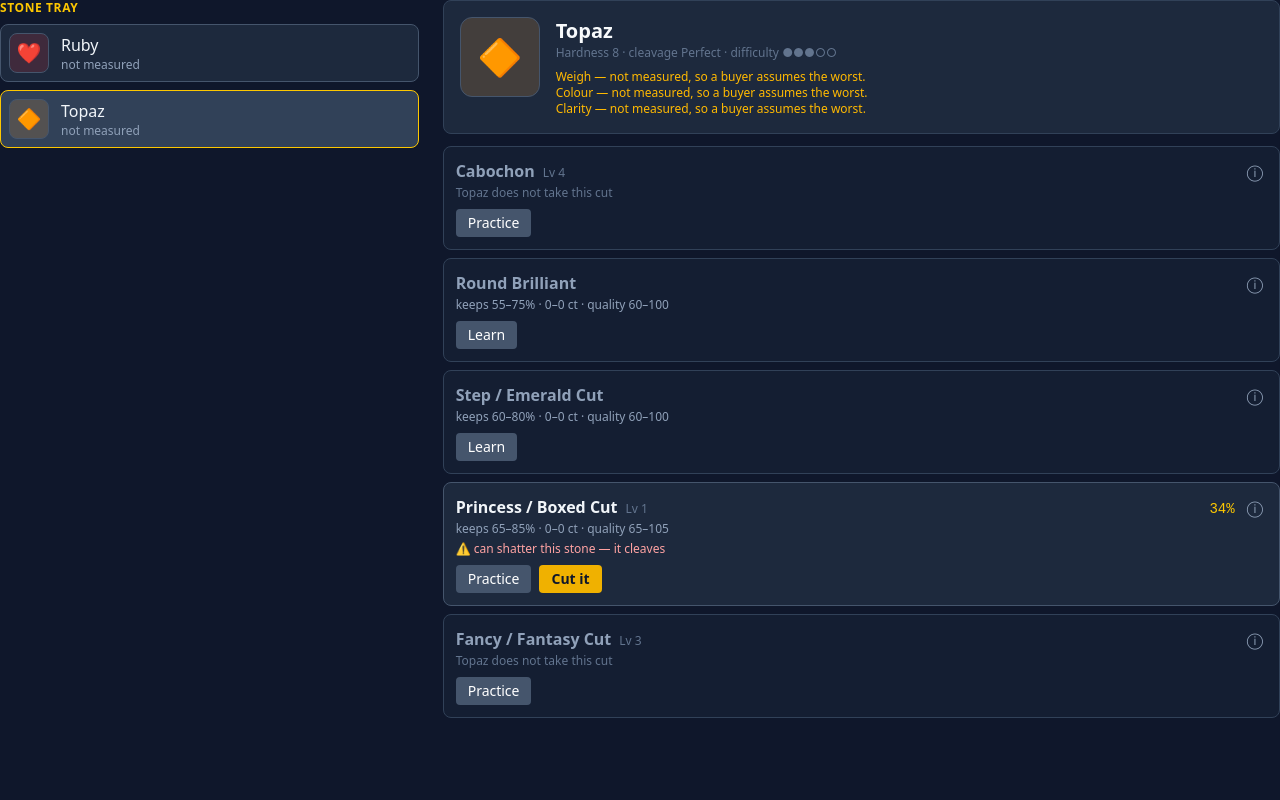
Test: Cut › does not quote odds or shatter risk in the guide for an unsuitable technique
The width and height of the screenshot is (1280, 800).
Click the button named "About Fancy".
click(1255, 639)  # box [1243, 627, 1267, 651]
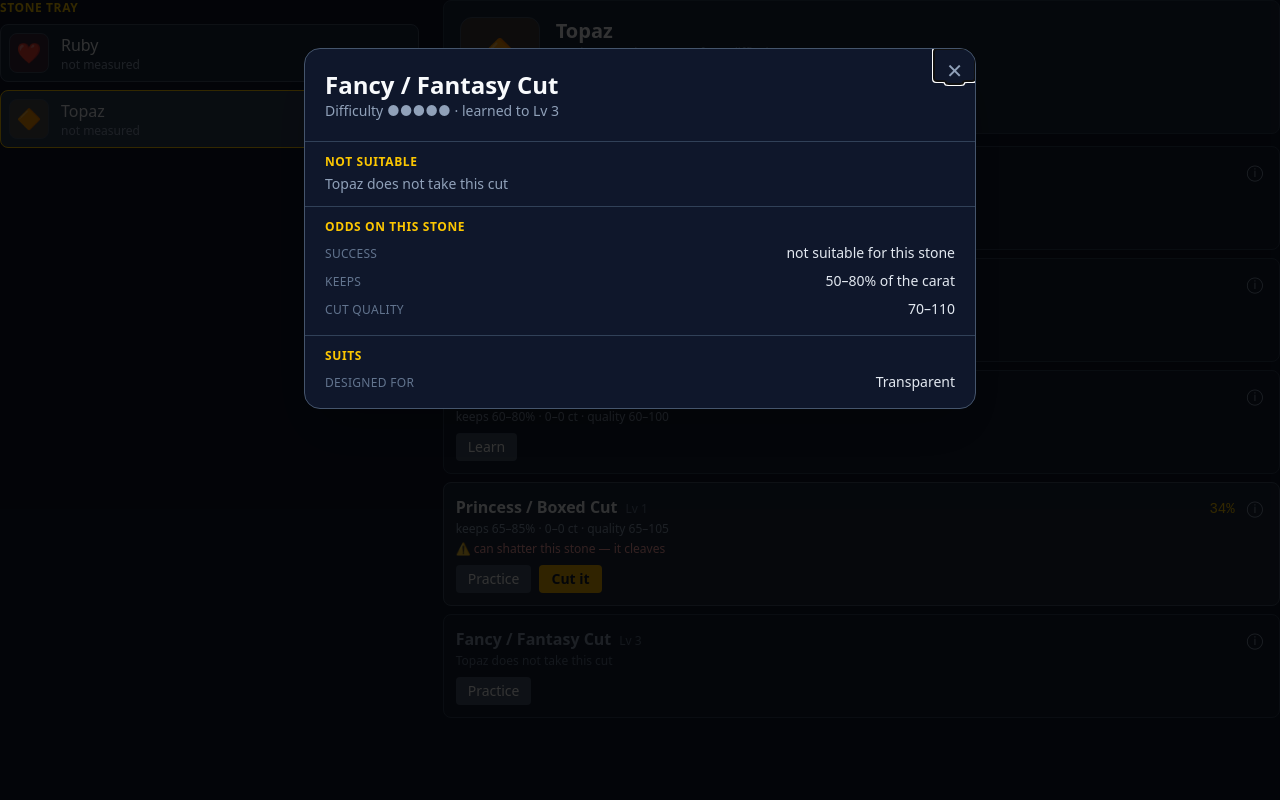
Expected: the text "Success" does not show "%"
Expected: the dialog shows "does not take this cut", [325, 174, 508, 193]
